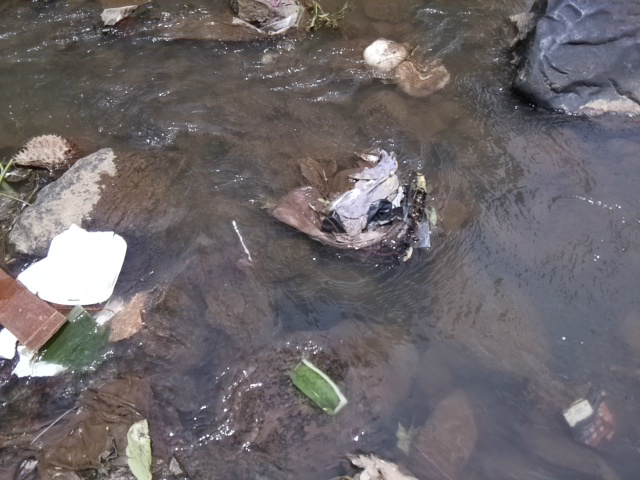Sampah_Plastik: (284, 148, 440, 260)
Sampah_Styrofoam: (14, 223, 127, 308)
